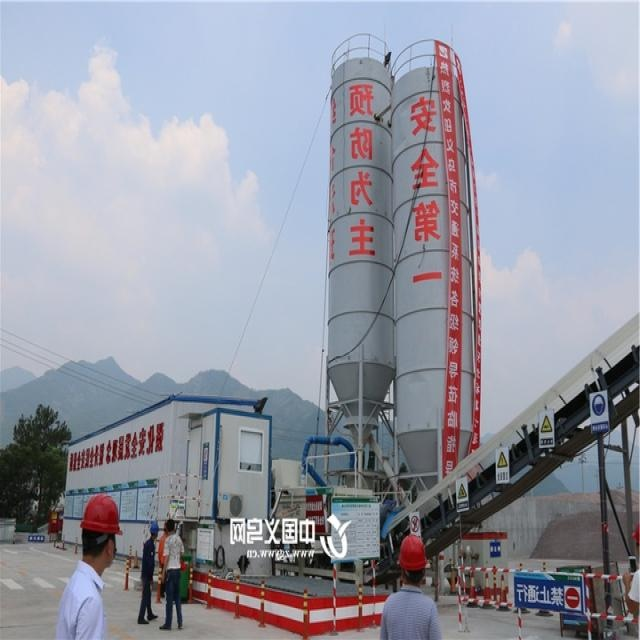Con_Casco: (79, 492, 121, 567), (397, 533, 427, 587)
